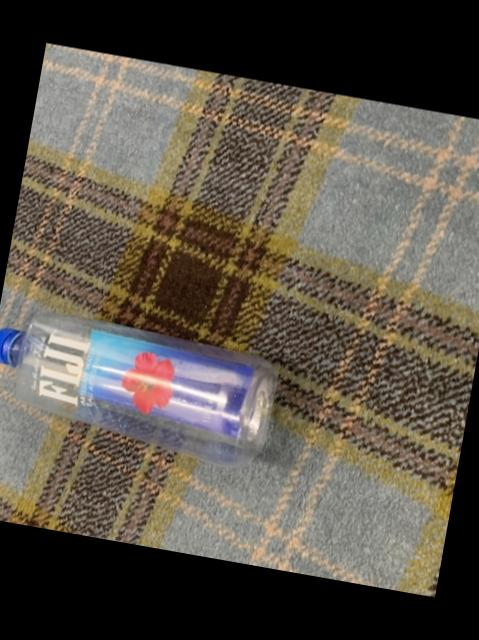plastic: (0, 313, 273, 466)
